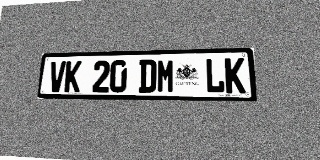0: (109, 60, 127, 93)
2: (92, 60, 110, 93)
D: (138, 59, 157, 93)
K: (225, 58, 246, 93), (64, 61, 82, 92)
L: (205, 58, 225, 93)
M: (157, 59, 175, 93)
V: (48, 61, 66, 92)
